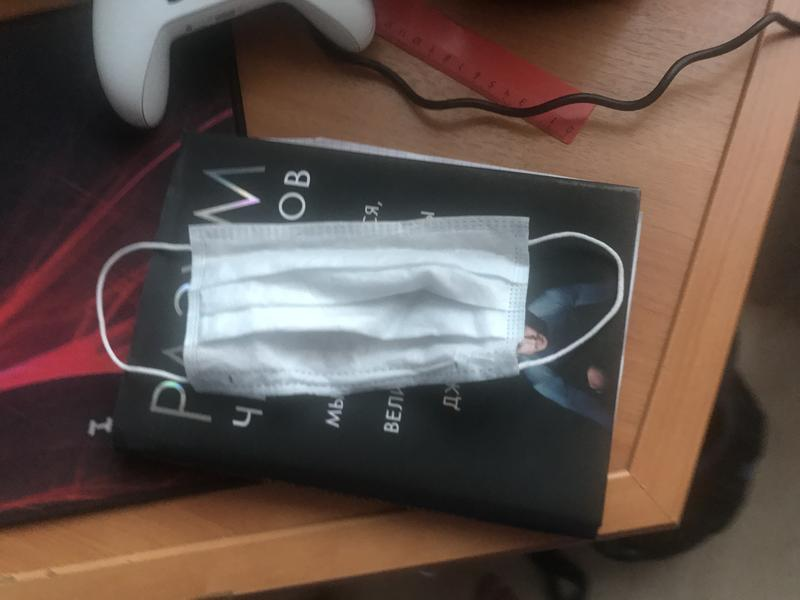medical_mask: (96, 219, 627, 397)
